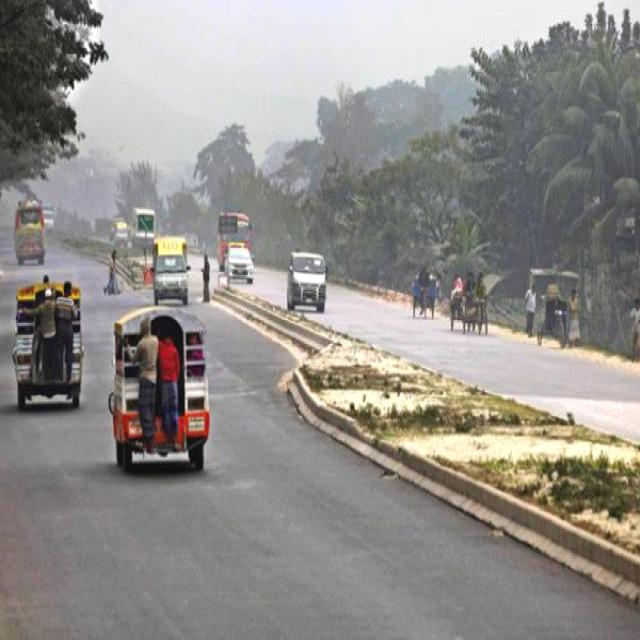silver: (289, 249, 327, 313)
white: (225, 245, 255, 284)
